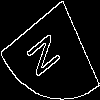N: (25, 25, 68, 81)
